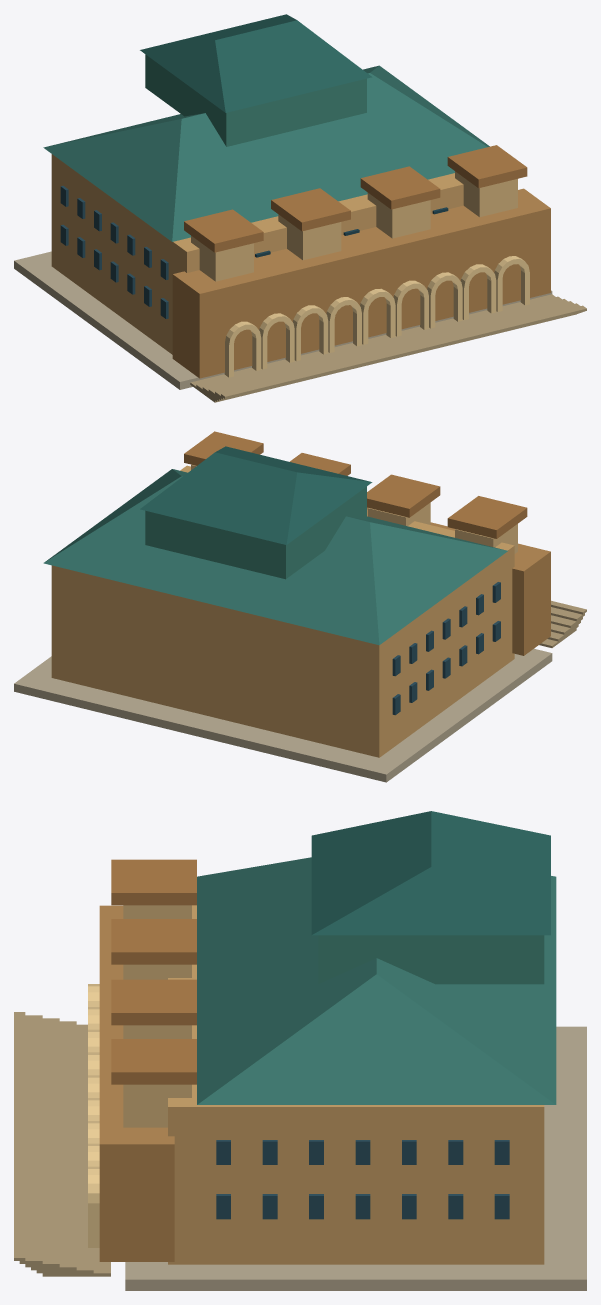
File: teatro-colon.glb
3 renders of one model, top to bottom at view 1: azimuth 30°, elevation 25°; view 2: azimuth 150°, elevation 25°; view 3: azimuth 270°, elevation 25°, orthographic. The views are drawn at different scales.
Visible parts, largest first — view 1: roof, body_C4AF89, body_D6C19A, base_C0B294, body_BDA883, body_E3CFAB, roof_72857C, body_DEC9A2, base_B8B49D, detail_63716A; view 2: body_D6C19A, roof, base_B8B49D, roof_72857C, body_BDA883, body_C4AF89, detail_63716A, body_DEC9A2, base_C0B294; view 3: roof, body_D6C19A, base_B8B49D, base_C0B294, body_BDA883, body_C4AF89, roof_72857C, detail_63716A, body_DEC9A2, body_E3CFAB.
Boxes of the visible parts, left/top/right/bottom form: roof: left=43, top=14, right=489, bottom=241; body_C4AF89: left=172, top=188, right=550, bottom=378; body_D6C19A: left=51, top=154, right=463, bottom=354; base_C0B294: left=190, top=294, right=586, bottom=402; body_BDA883: left=184, top=145, right=527, bottom=252; body_E3CFAB: left=224, top=256, right=529, bottom=377; roof_72857C: left=145, top=54, right=366, bottom=146; body_DEC9A2: left=191, top=171, right=517, bottom=281; base_B8B49D: left=14, top=251, right=552, bottom=389; detail_63716A: left=60, top=185, right=168, bottom=318; body_D6C19A: left=51, top=465, right=514, bottom=757; roof: left=43, top=446, right=507, bottom=645; base_B8B49D: left=14, top=648, right=552, bottom=782; roof_72857C: left=145, top=486, right=366, bottom=579; body_BDA883: left=184, top=431, right=527, bottom=538; body_C4AF89: left=367, top=507, right=550, bottom=655; detail_63716A: left=392, top=582, right=500, bottom=715; body_DEC9A2: left=191, top=464, right=517, bottom=553; base_C0B294: left=539, top=600, right=586, bottom=647; roof: left=197, top=811, right=556, bottom=1104; body_D6C19A: left=168, top=905, right=544, bottom=1264; base_B8B49D: left=125, top=1026, right=586, bottom=1290; base_C0B294: left=14, top=1012, right=110, bottom=1276; body_BDA883: left=111, top=859, right=196, bottom=1084; body_C4AF89: left=99, top=905, right=174, bottom=1261; roof_72857C: left=318, top=935, right=544, bottom=984; detail_63716A: left=216, top=1140, right=509, bottom=1219; body_DEC9A2: left=123, top=905, right=191, bottom=1127; body_E3CFAB: left=88, top=984, right=99, bottom=1247.
Size of the model in its own units: 1 by 0.6 by 0.9571.
